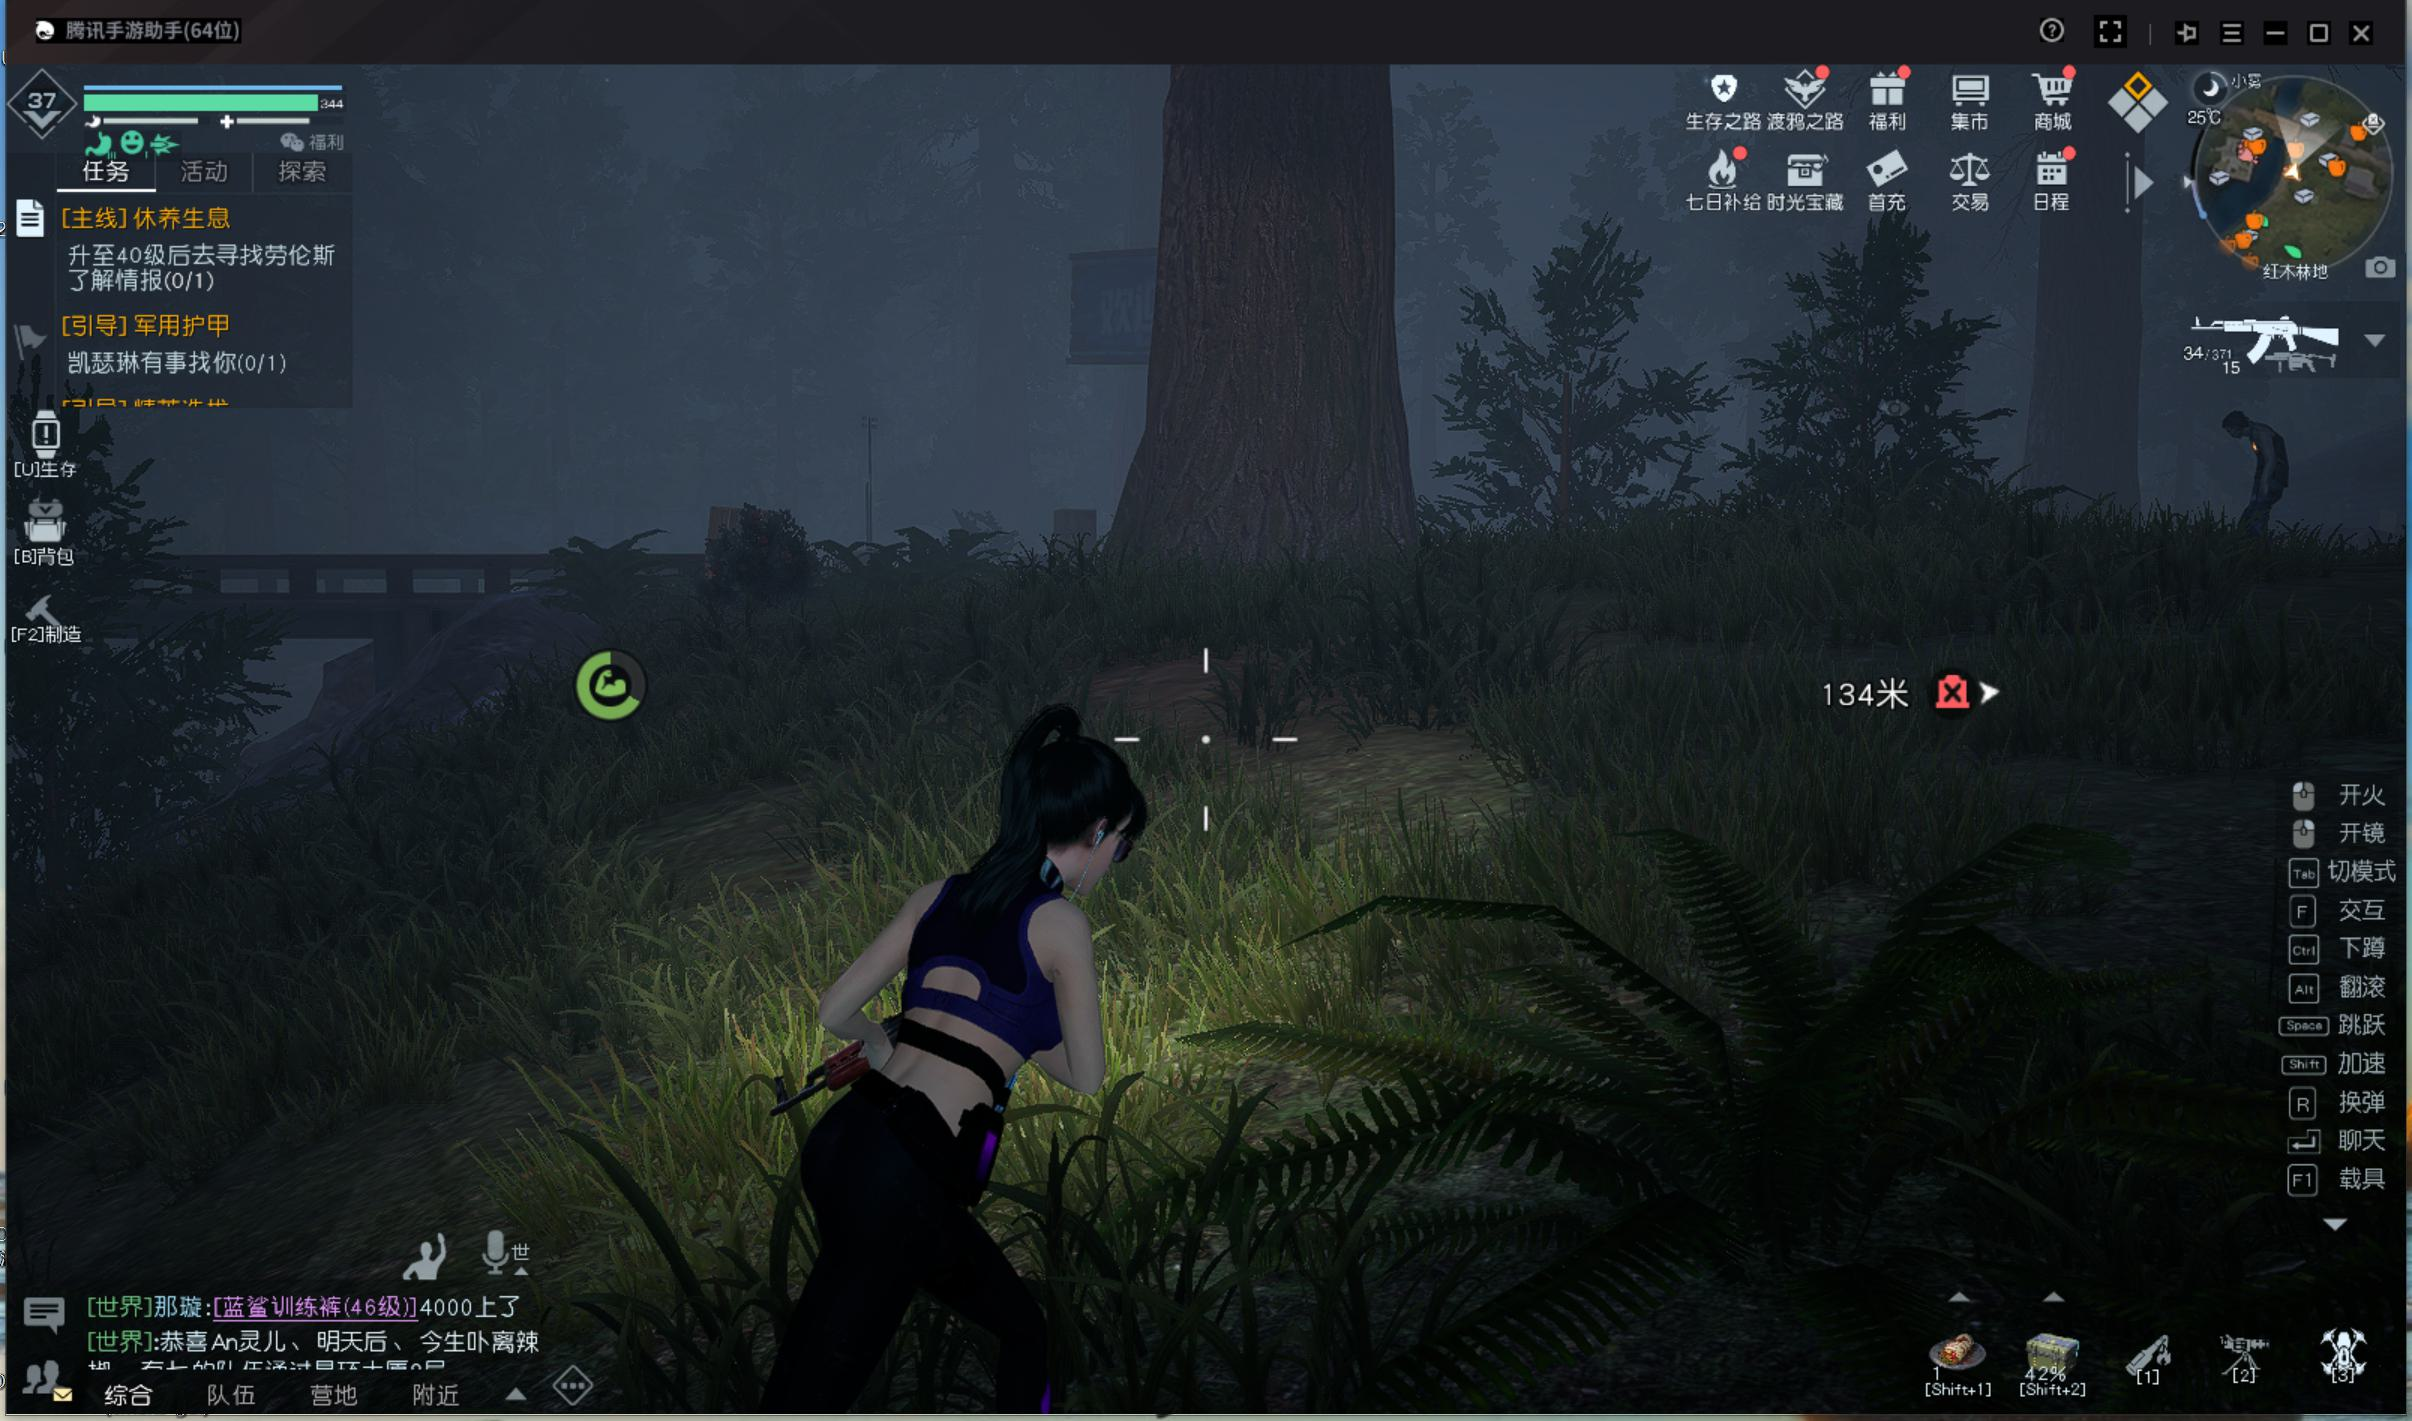tree: (1103, 90, 1438, 580), (2011, 232, 2143, 555)
